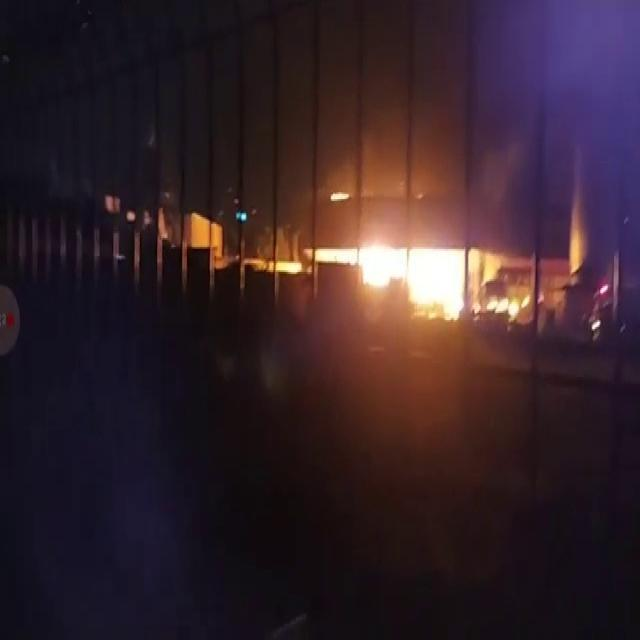Fire: (338, 244, 531, 326)
Smoke: (299, 14, 548, 199)
